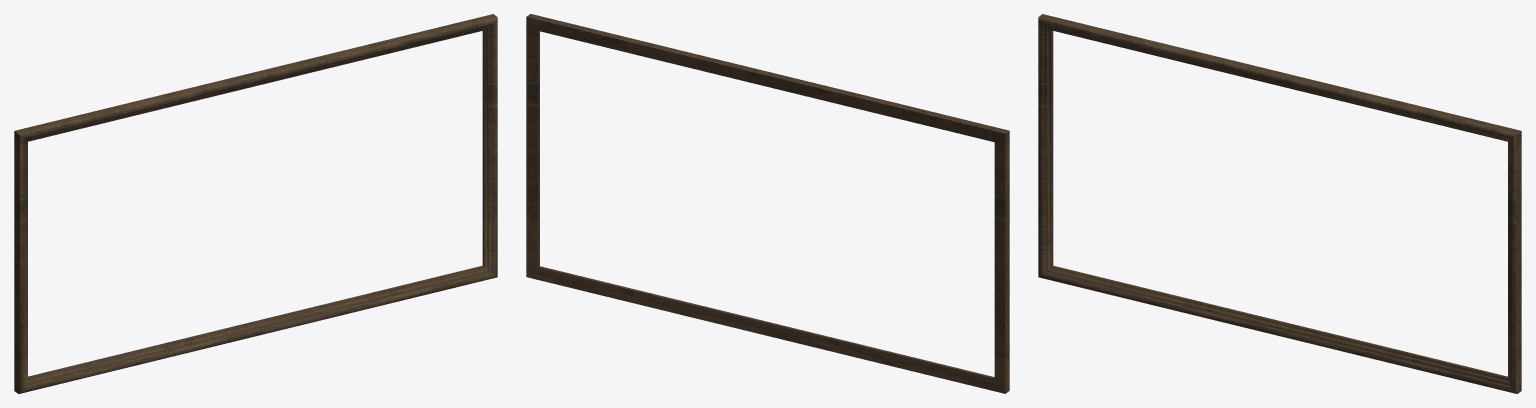
Rendered from ink-flash-frame.glb.
3 views of the same model, side by side, from view 1: azimuth 30°, elevation 25°; view 2: azimuth 150°, elevation 25°; view 3: azimuth 330°, elevation 25° (orthographic).
Parts seen in each view (by area): view 1: flashframe; view 2: flashframe; view 3: flashframe.
Part boxes in pixels (x1=…): flashframe: x1=14, y1=14, x2=497, y2=393; flashframe: x1=526, y1=14, x2=1009, y2=393; flashframe: x1=1038, y1=14, x2=1521, y2=393.
Bounding box in the file's own units: 2.1 × 1.09 × 0.041.
Materials: 1 (1 with a texture image).
